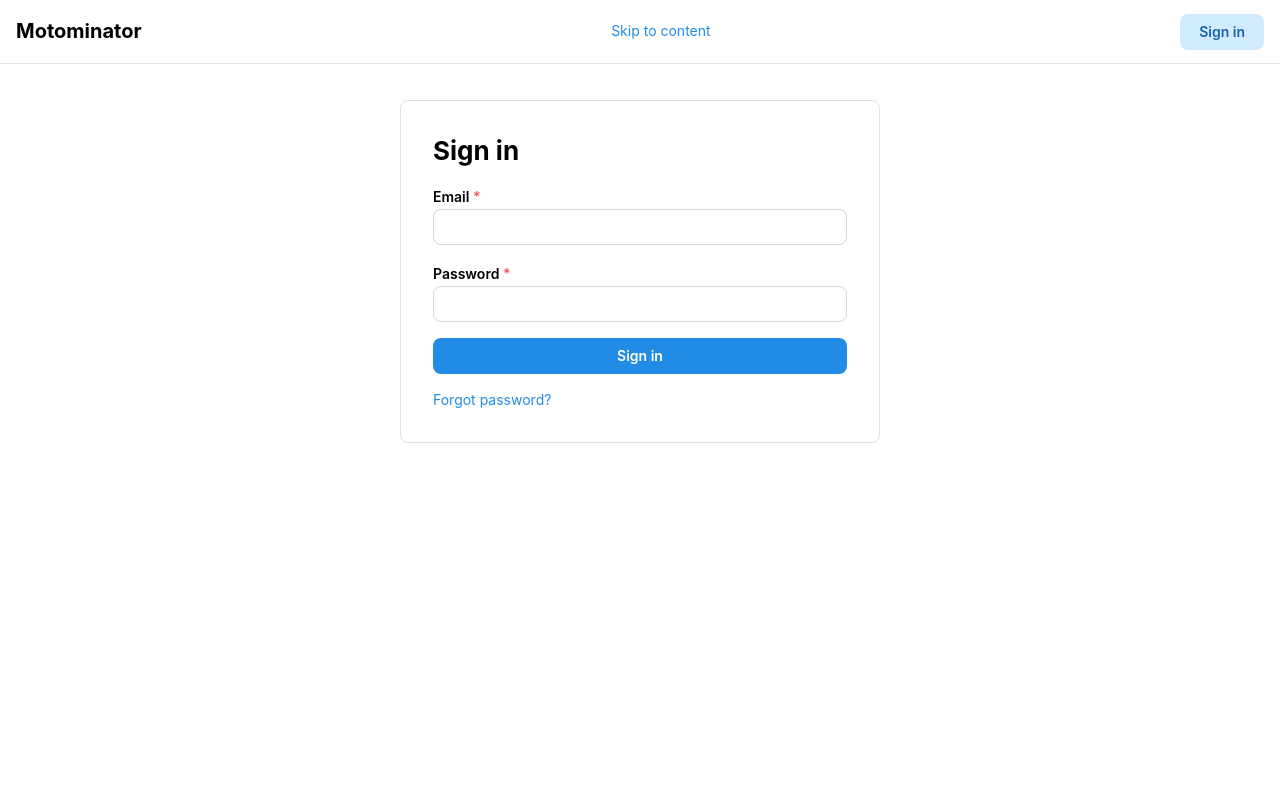
browser authentication › signs in, loads the account, and signs out
This screenshot has width=1280, height=800.
Expected: the heading "Sign in" is shown, 433,135 -> 519,166
Type "rider@example.test" into the field labelled "Email *". click: [640, 227]
box: 433,209 -> 847,245
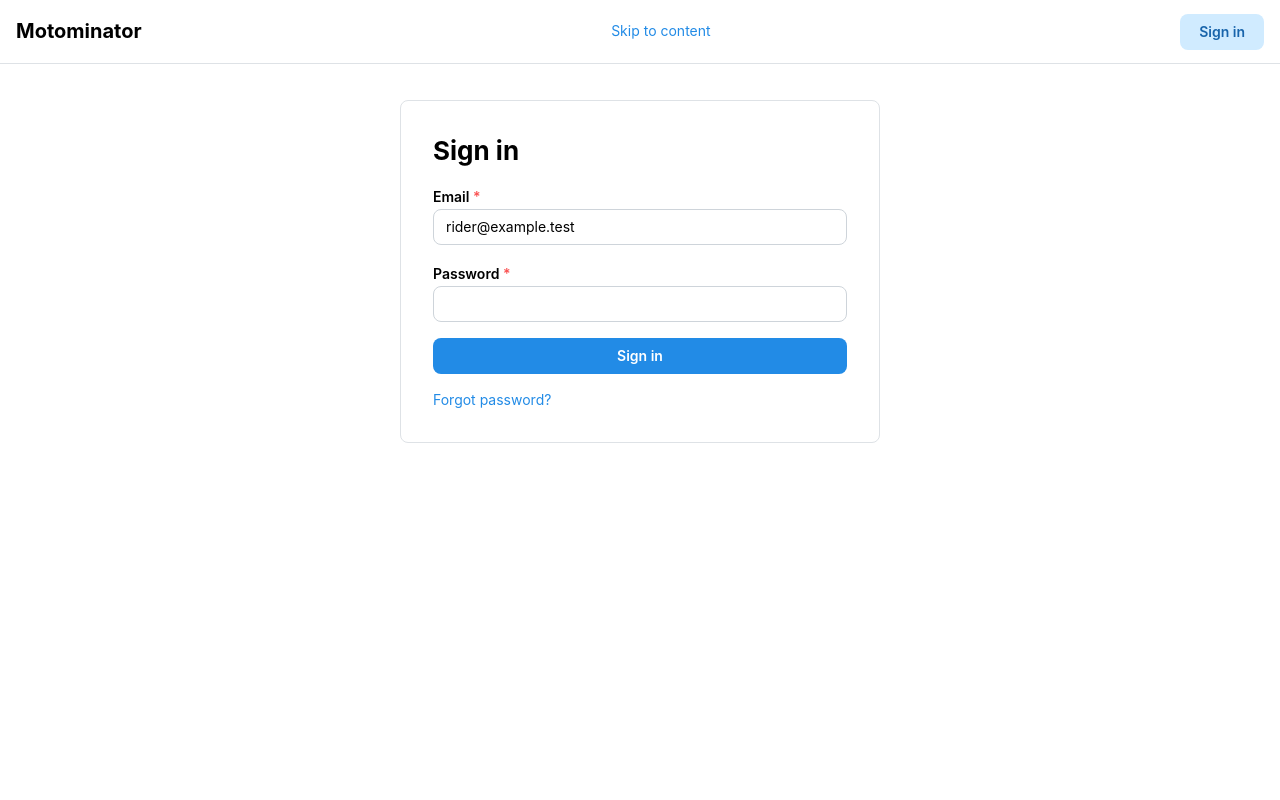
Type "password" into the password field labelled "Password *". click: [640, 304]
box: 433,286 -> 847,322
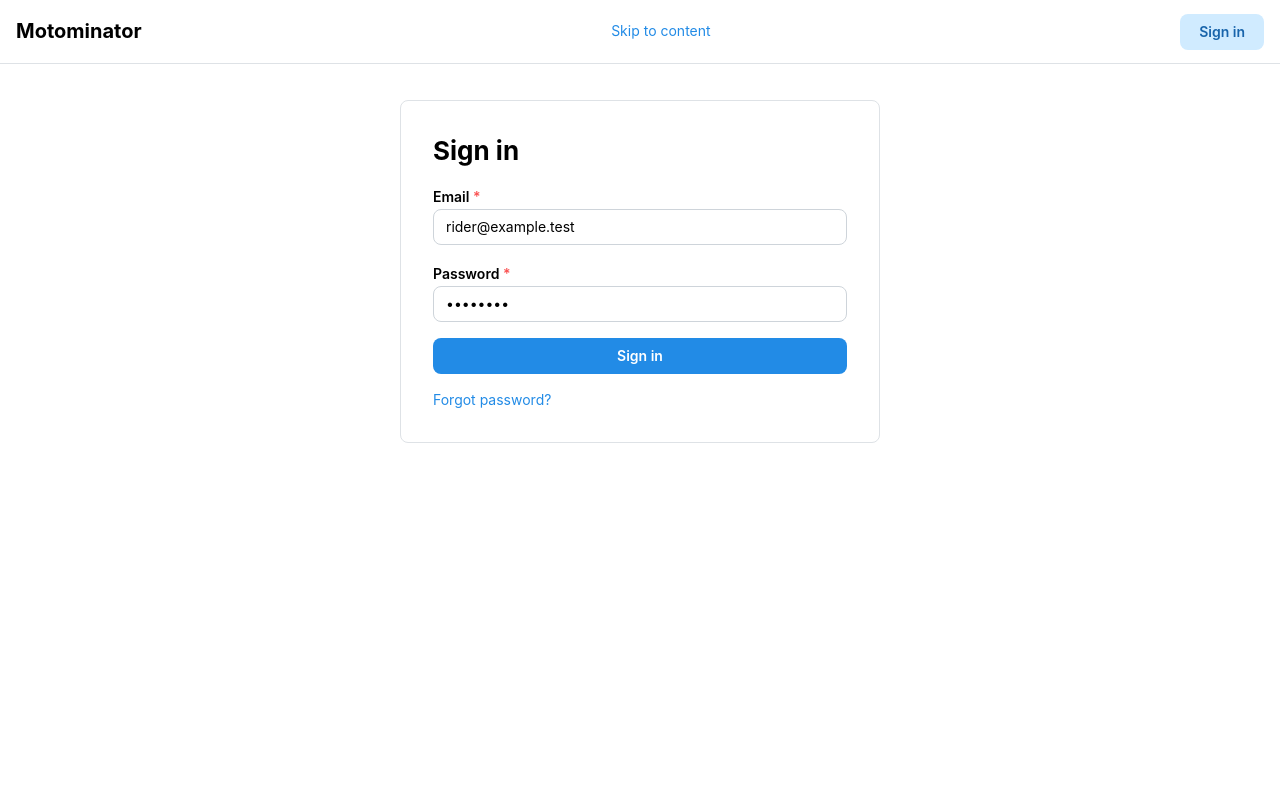
Click the button "Sign in" below "Email". click: [640, 356]
box: 433,338 -> 847,374
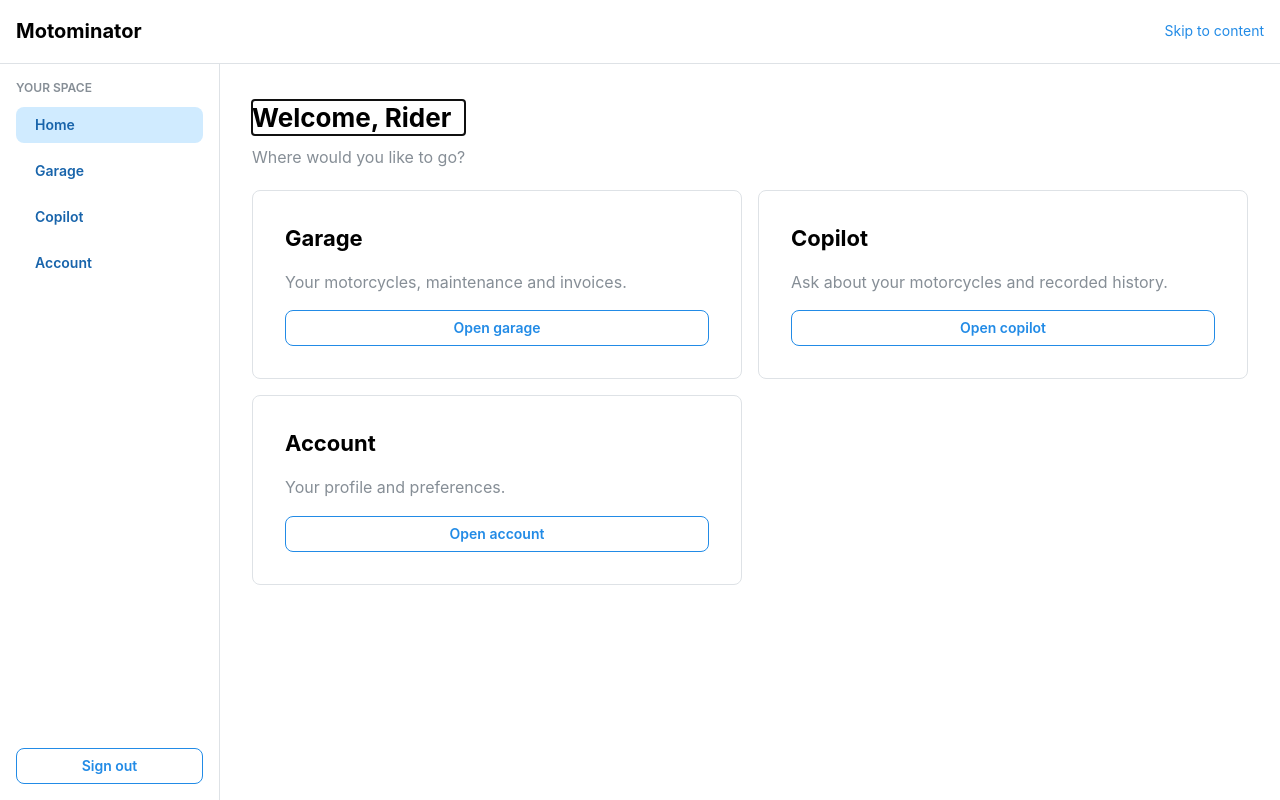
Expected: the heading "Welcome, Rider" is shown, 252,100 -> 465,135
Click the button "Sign out". click: [110, 766]
box: 16,748 -> 203,784
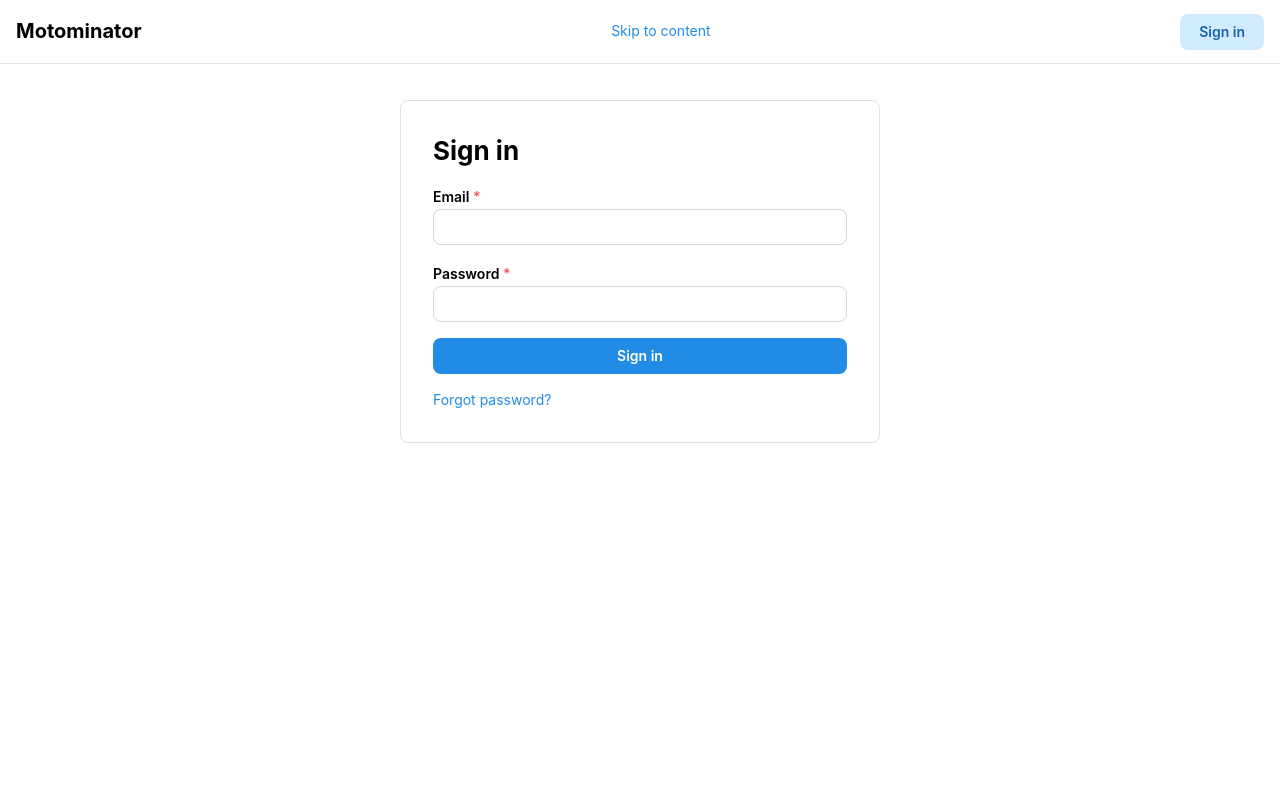
Expected: the heading "Sign in" is shown, 433,135 -> 519,166
Expected: the heading "Welcome, Rider" is gone
